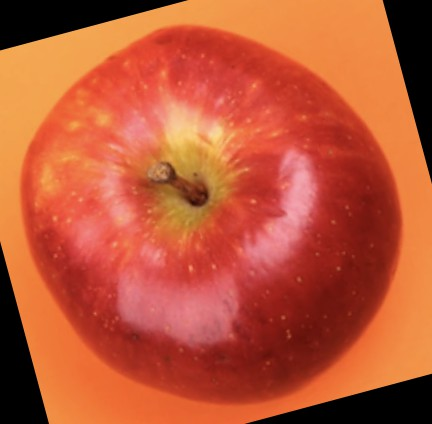fresh_apple: (18, 25, 401, 403)
